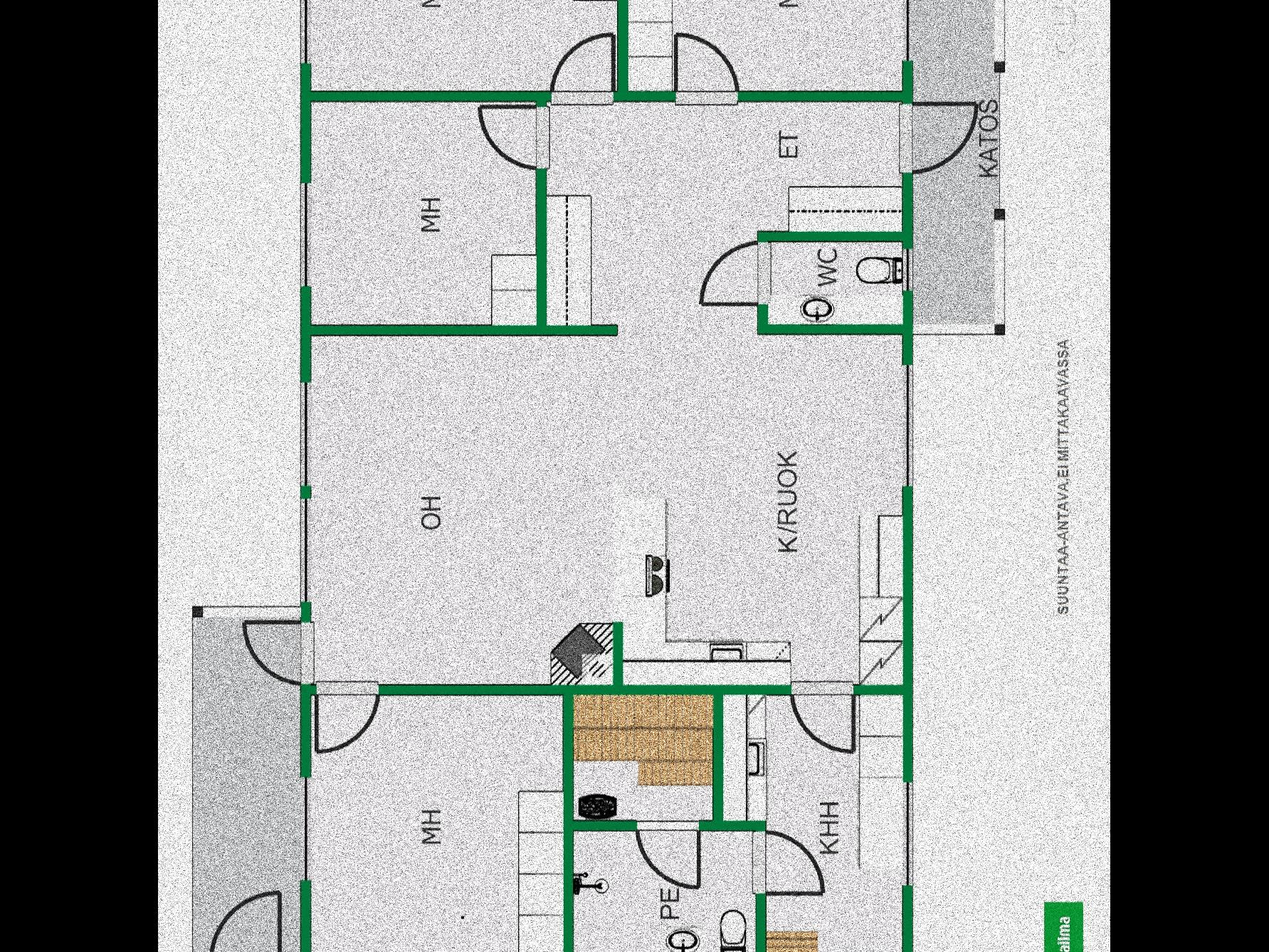door: (469, 96, 558, 173), (900, 97, 982, 173), (633, 814, 711, 890), (234, 618, 315, 688), (696, 239, 775, 308), (789, 678, 857, 757), (210, 882, 285, 952), (674, 29, 739, 109), (311, 678, 378, 755), (551, 28, 617, 106), (753, 826, 825, 897)
window: (298, 381, 318, 491), (901, 364, 918, 486), (298, 183, 316, 289), (899, 782, 915, 887), (299, 776, 314, 881), (296, 498, 310, 603), (900, 0, 917, 63), (300, 0, 310, 63), (902, 249, 918, 288)
zone: (313, 99, 903, 678), (313, 695, 564, 952), (313, 104, 536, 325), (194, 611, 300, 944), (768, 691, 902, 952), (910, 0, 994, 324), (308, 0, 616, 87), (628, 0, 905, 93), (572, 831, 754, 952), (572, 694, 712, 816)
